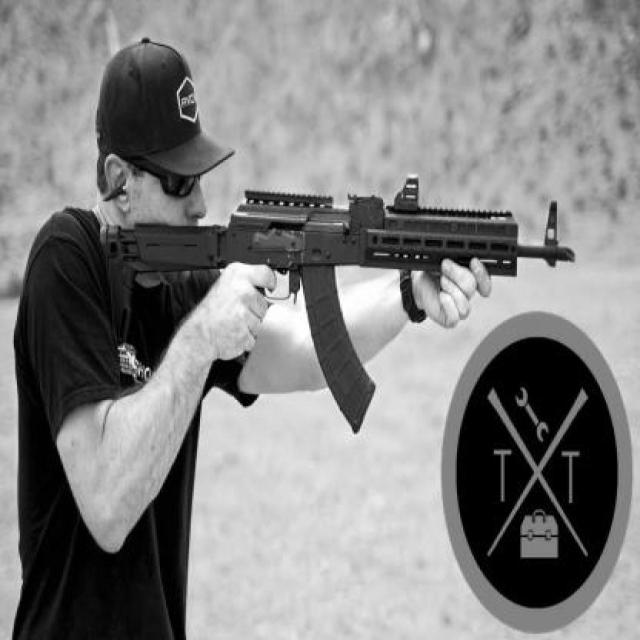weapon: (97, 171, 574, 436)
